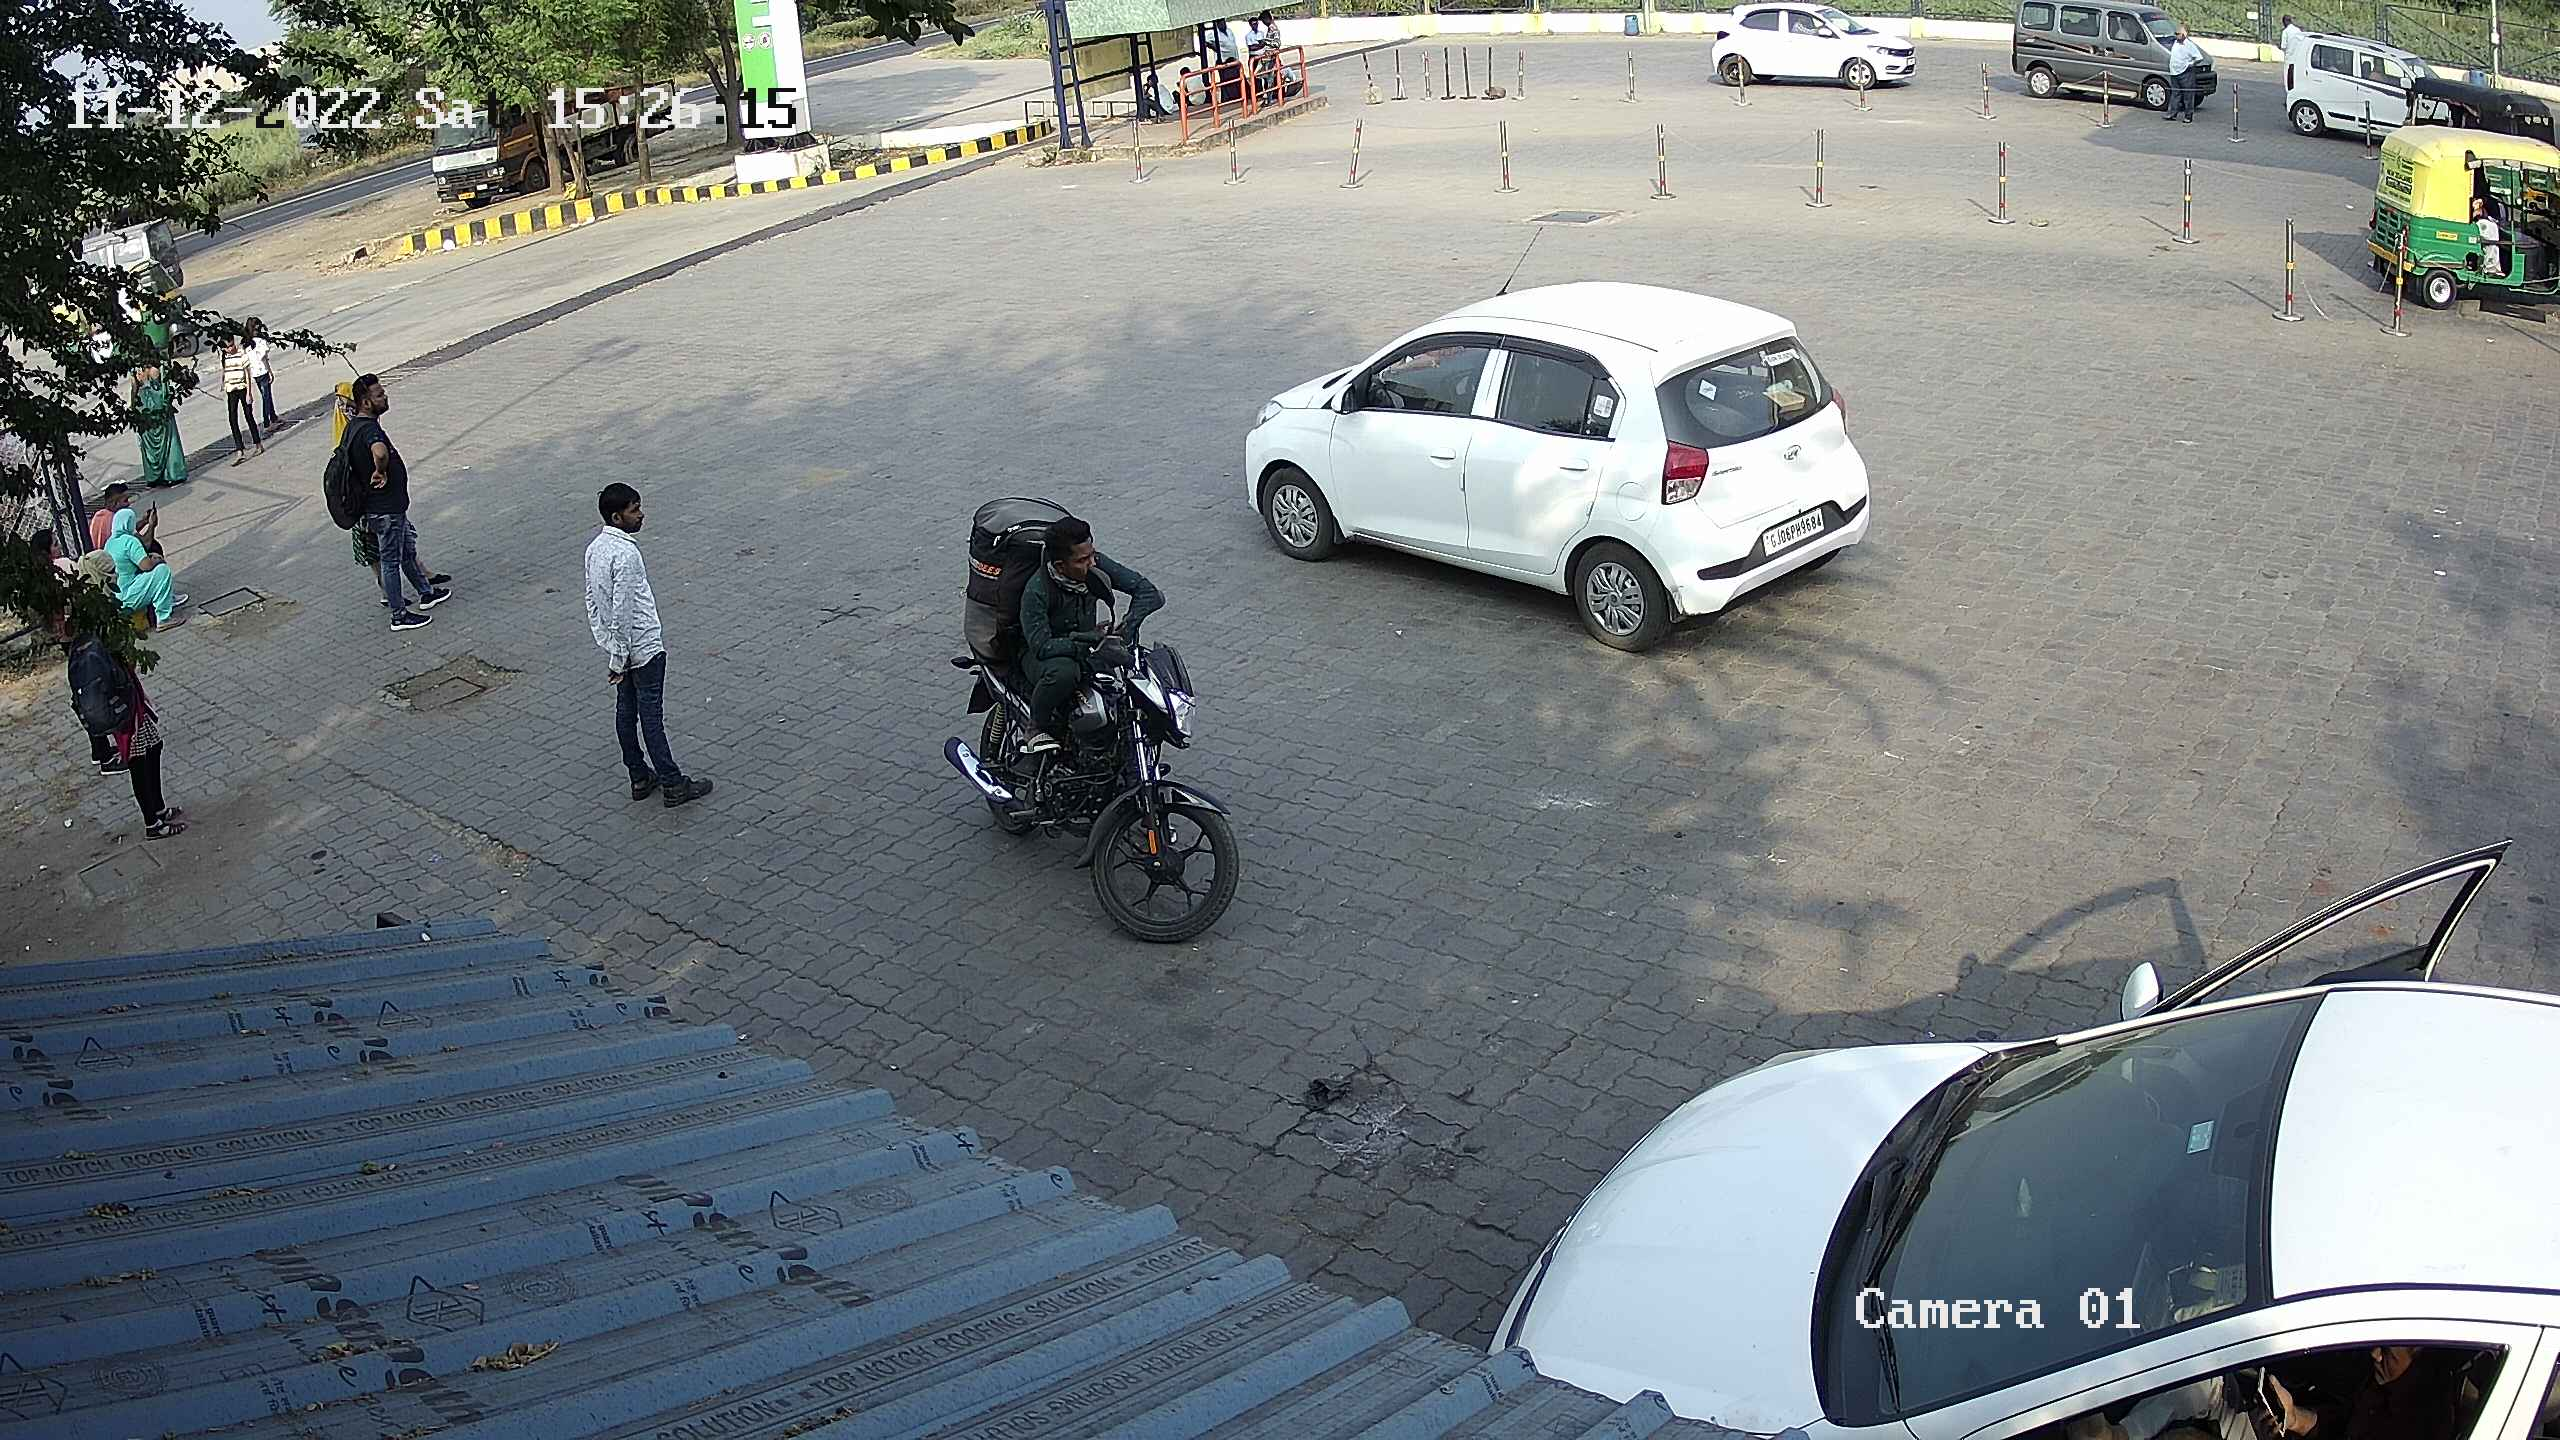Auto: (2353, 113, 2556, 322), (47, 250, 204, 367), (2384, 63, 2556, 155)
Bike: (918, 480, 1252, 955)
Car: (1477, 826, 2556, 1436), (1227, 213, 1874, 663), (1990, 0, 2224, 118), (2263, 21, 2446, 149), (1697, 0, 1924, 102), (76, 204, 188, 292)
HMV: (413, 46, 564, 222)
